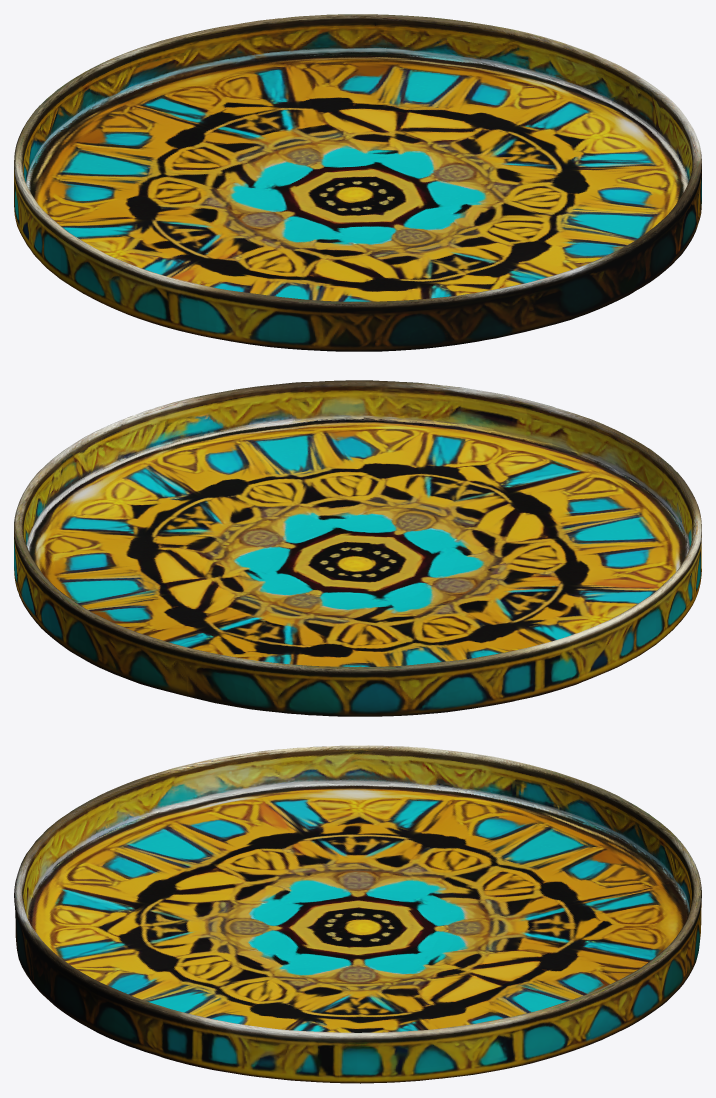
File: ceramic-snack-tray-art-deco.jpeg.glb
3 renders of one model, top to bottom at view 1: azimuth 30°, elevation 25°; view 2: azimuth 150°, elevation 25°; view 3: azimuth 270°, elevation 25°, orthographic.
Visible parts, largest first — view 1: world; view 2: world; view 3: world.
Boxes of the visible parts, bbox=[...] form: world: bbox=[14, 14, 701, 351]; world: bbox=[14, 380, 701, 716]; world: bbox=[14, 745, 701, 1083].
Bounding box in the file's own units: 1 × 0.0798 × 0.9994.
1 material, 1 textured.
